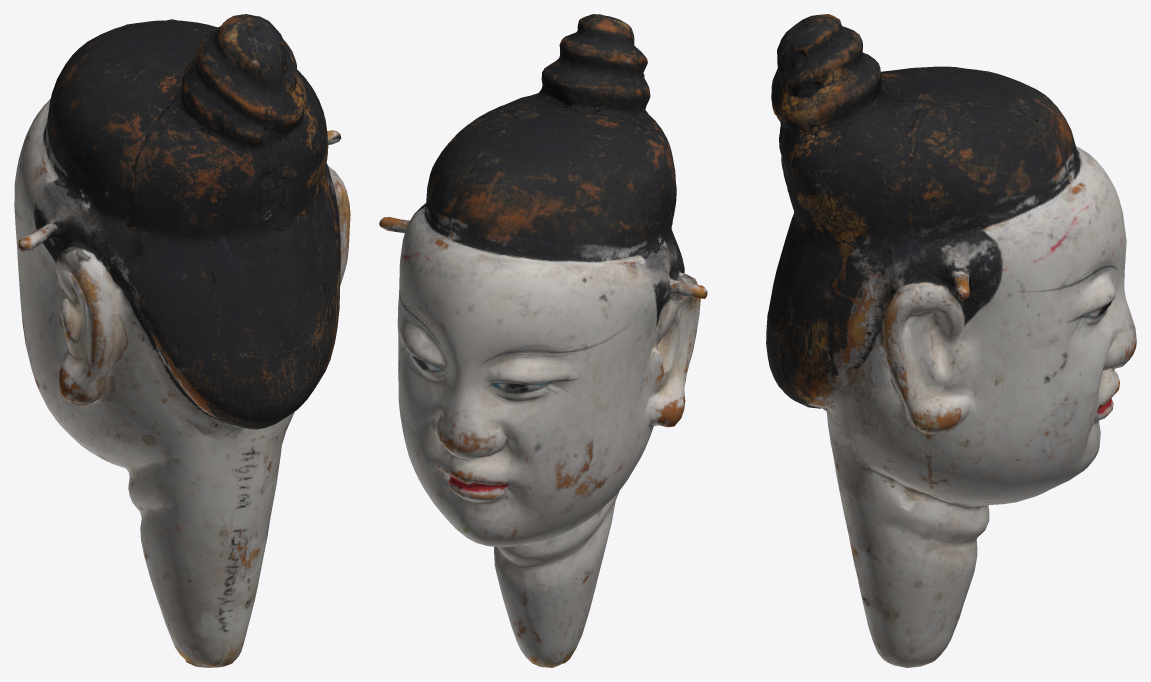
File: MTY004551.glb
3 views of the same model, side by side, from view 1: azimuth 30°, elevation 25°; view 2: azimuth 150°, elevation 25°; view 3: azimuth 270°, elevation 25° (orthographic). The views are drawn at different scales.
Visible parts, largest first — view 1: MTY004551; view 2: MTY004551; view 3: MTY004551.
Boxes of the visible parts, x1,y1,x2,y2 form: MTY004551: (14, 14, 350, 667); MTY004551: (379, 14, 707, 667); MTY004551: (766, 14, 1136, 667).
Bounding box in the file's own units: 29.39 × 55.94 × 29.38.
1 material, 1 textured.
